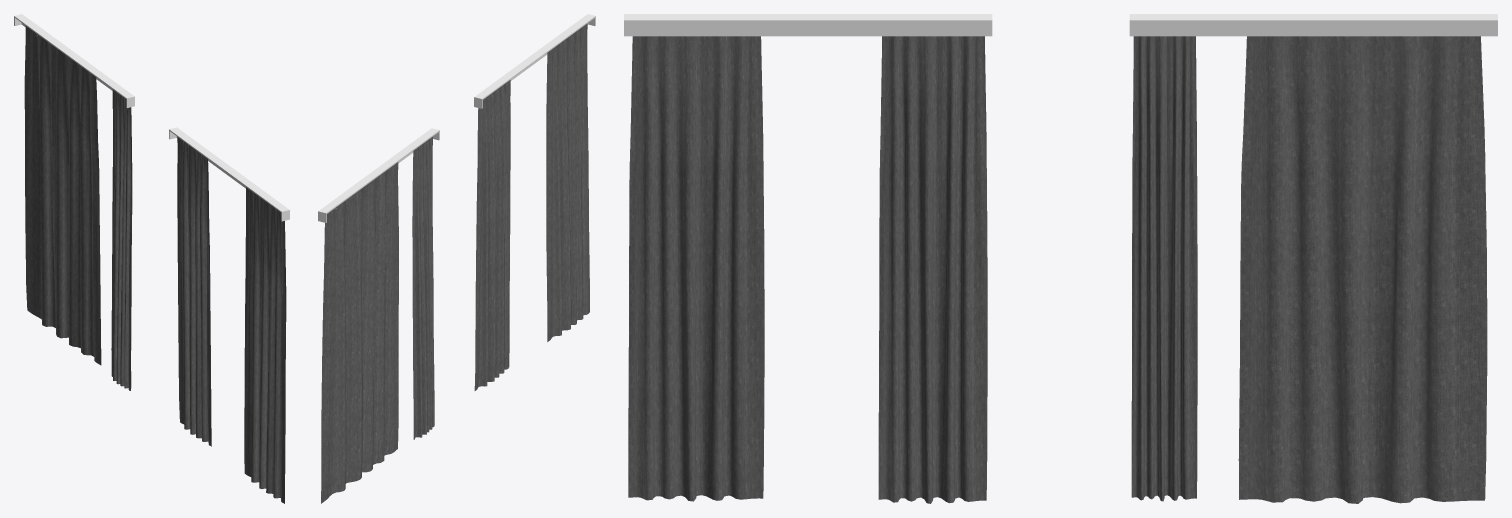
File: shapespark_low_poly_curtains_kit.glb
3 views of the same model, side by side, from view 1: azimuth 30°, elevation 25°; view 2: azimuth 150°, elevation 25°; view 3: azimuth 270°, elevation 25° (orthographic). The views are drawn at different scales.
Parts seen in each view (by area): view 1: curtain_04, curtain_01, curtain_02, curtain_03, Cube, Cube.001; view 2: curtain_04, curtain_01, curtain_02, curtain_03, Cube, Cube.001; view 3: curtain_04, curtain_01, curtain_02, curtain_03, Cube, Cube.001.
Boxes of the visible parts, left/top/right/bottom form: curtain_04: left=24, top=26, right=101, bottom=365; curtain_01: left=244, top=187, right=286, bottom=503; curtain_02: left=177, top=137, right=211, bottom=446; curtain_03: left=111, top=89, right=132, bottom=390; Cube: left=169, top=127, right=289, bottom=221; Cube.001: left=14, top=14, right=134, bottom=107; curtain_04: left=321, top=162, right=398, bottom=503; curtain_01: left=546, top=23, right=589, bottom=341; curtain_02: left=474, top=80, right=510, bottom=390; curtain_03: left=412, top=136, right=434, bottom=439; Cube: left=474, top=14, right=595, bottom=108; Cube.001: left=318, top=128, right=439, bottom=222; curtain_04: left=1238, top=36, right=1487, bottom=503; curtain_01: left=628, top=36, right=764, bottom=501; curtain_02: left=878, top=36, right=987, bottom=503; curtain_03: left=1131, top=36, right=1197, bottom=501; Cube: left=624, top=14, right=992, bottom=36; Cube.001: left=1129, top=14, right=1497, bottom=36.
Size of the model in its own units: 0.1648 by 3.5 by 5.78.
2 materials, 1 textured.
